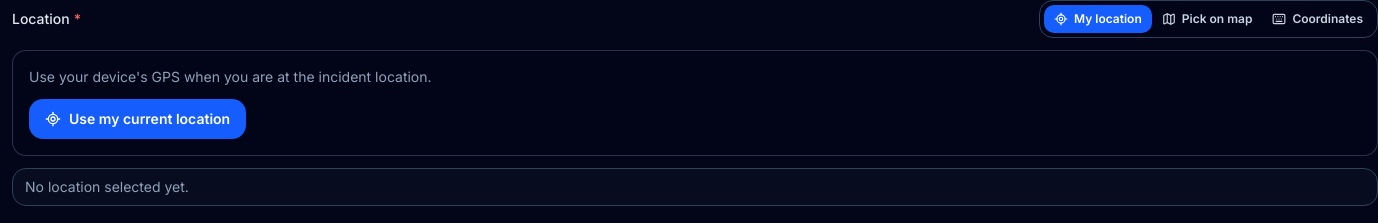
Test: LocationPicker › uses a one-shot GPS fix when asked, rounded to 5 decimals
The image size is (1378, 223).
Click the button "Use my current location" at point(138, 119), box 29,99 -> 246,139
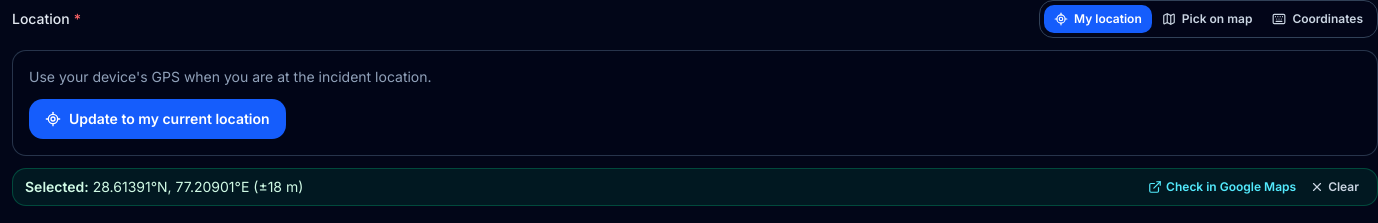
Result: the text "Selected:" is shown at 25,178 -> 89,195
Result: the text "Selected: 28.61391°N, 77.20901°E (±18 m)" is shown at 25,177 -> 303,197
